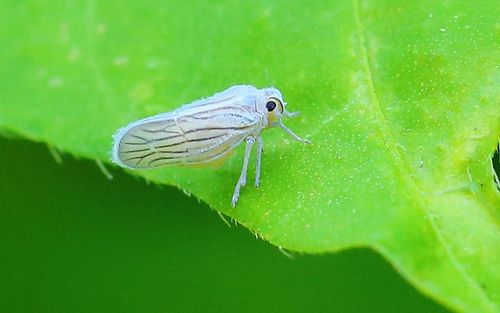Cicadellidae: (108, 83, 312, 209)
